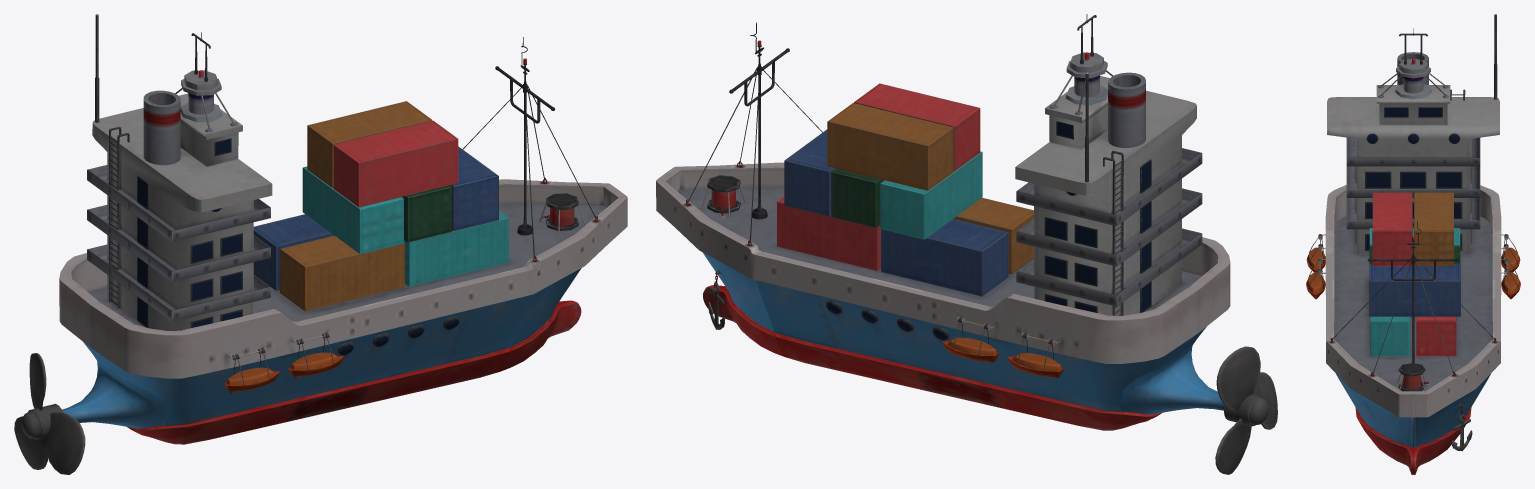
Rendered from ship.gltf.
3 views of the same model, side by side, from view 1: azimuth 30°, elevation 25°; view 2: azimuth 150°, elevation 25°; view 3: azimuth 270°, elevation 25° (orthographic). The views are drawn at different scales.
Visible parts, largest first — view 1: node_id63_2, node_id65_3; view 2: node_id63_2, node_id65_3; view 3: node_id65_3, node_id63_2.
Part boxes in pixels (box(x1,y1,x2,y2)): node_id63_2: box(14, 70, 627, 474); node_id65_3: box(87, 14, 606, 327); node_id63_2: box(656, 52, 1277, 474); node_id65_3: box(677, 14, 1202, 315); node_id65_3: box(1330, 14, 1497, 391); node_id63_2: box(1306, 59, 1520, 474).
Size of the model in its own units: 0.7821 by 0.512 by 0.31.
Materials: 2 (2 with a texture image).
